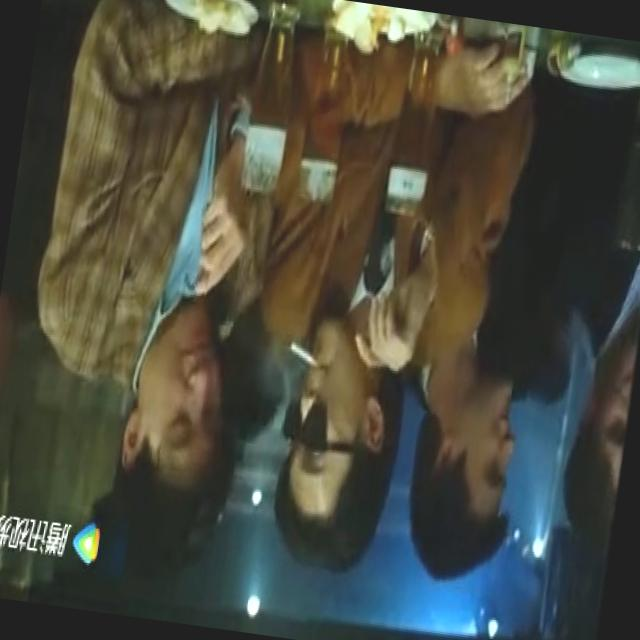cigarette: (280, 334, 326, 374)
